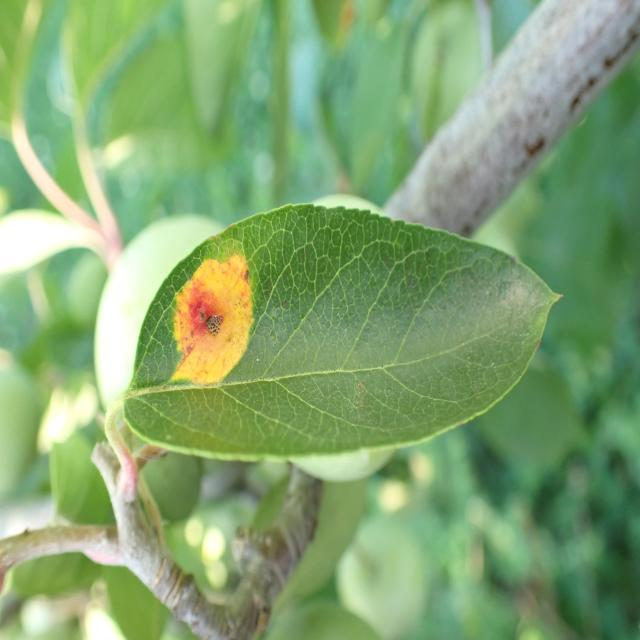rust: (117, 201, 563, 459)
